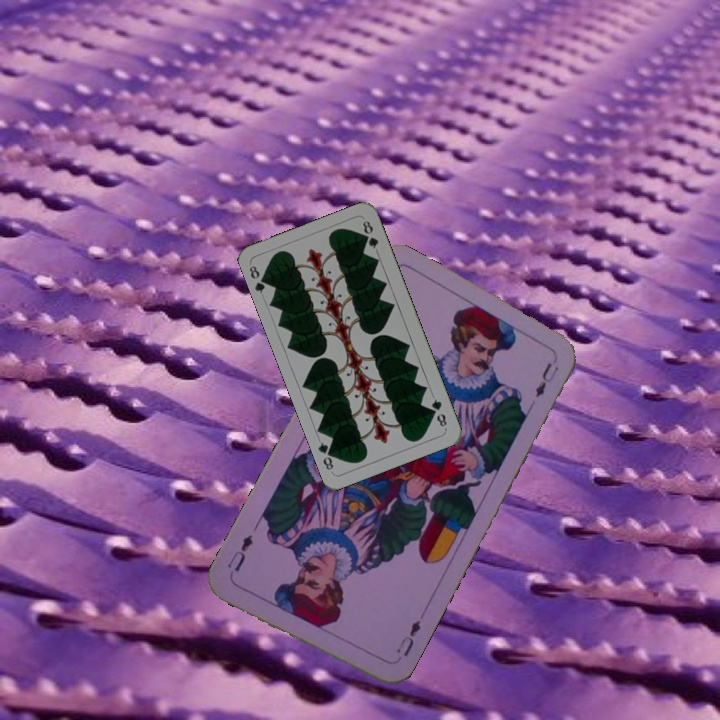EU: (392, 616, 424, 660)
G8: (245, 261, 271, 296), (427, 395, 449, 429)
